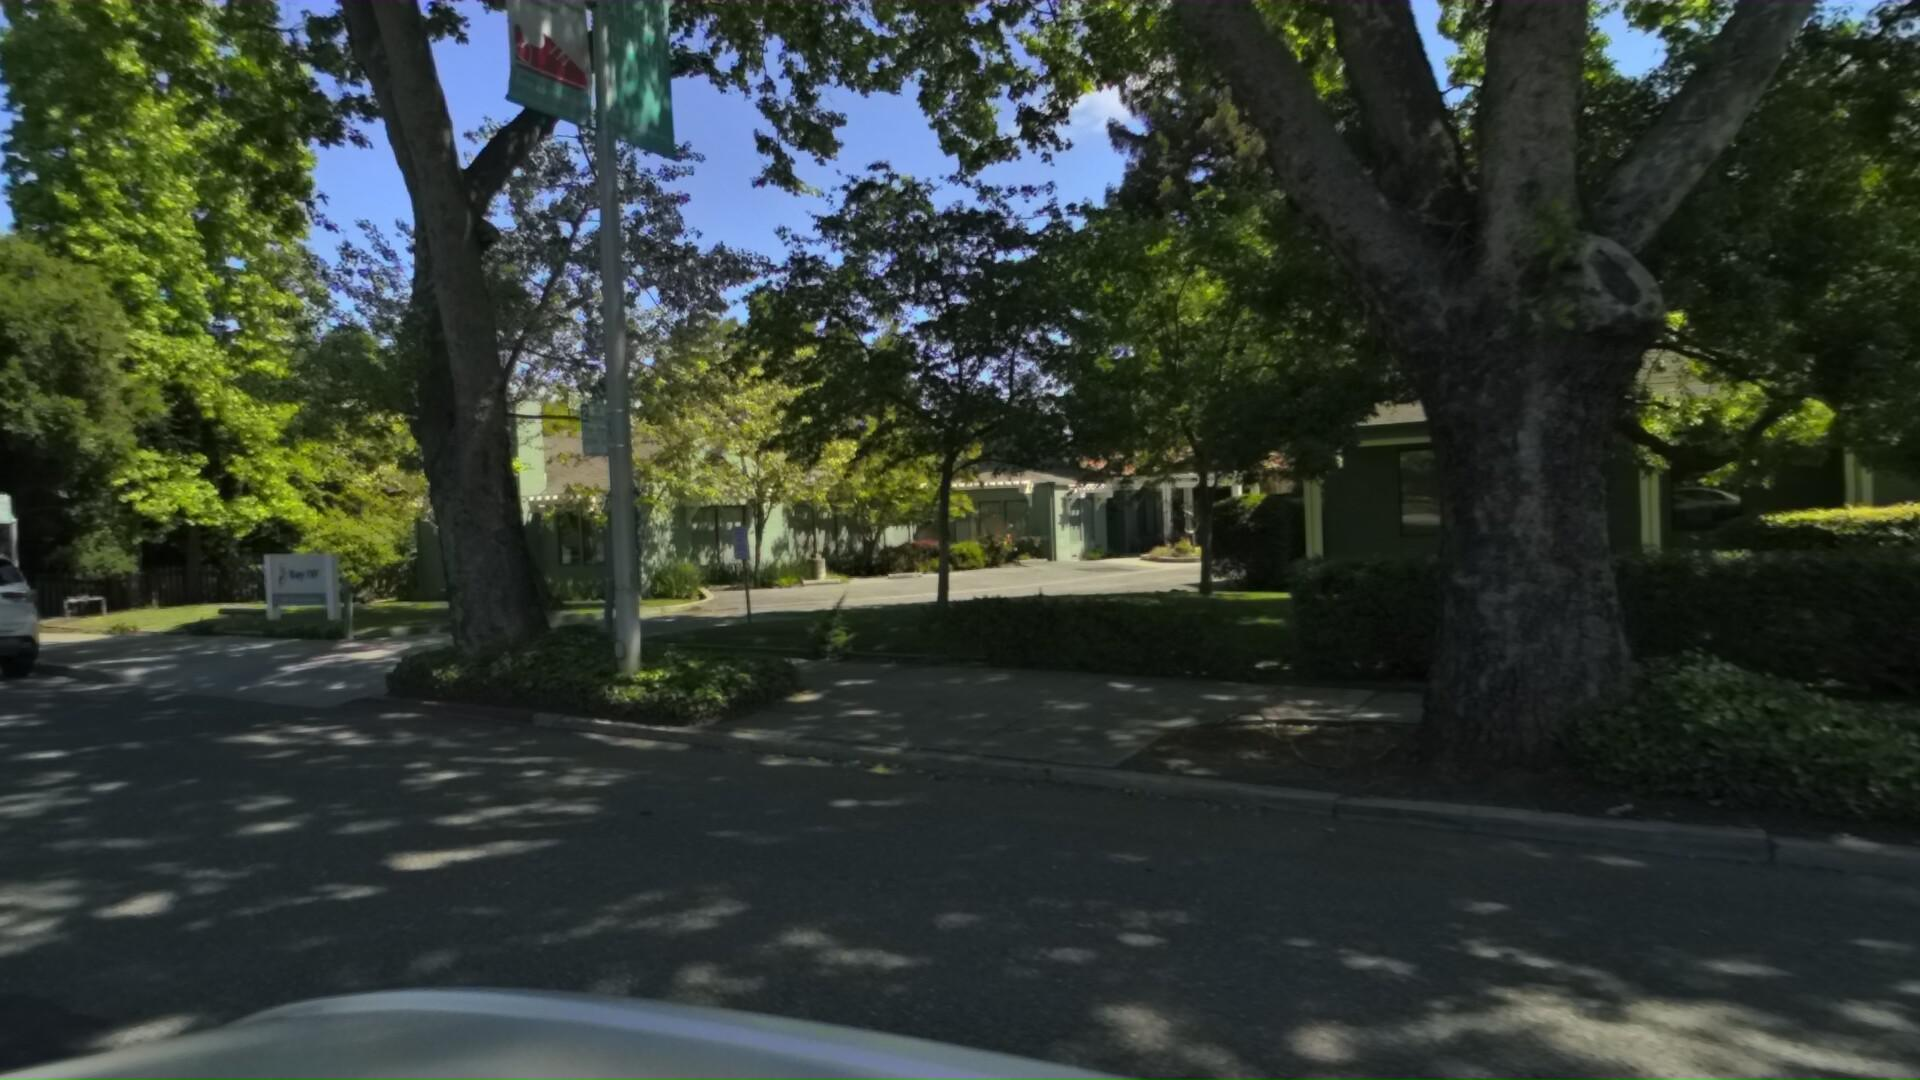car: (0, 530, 86, 698)
